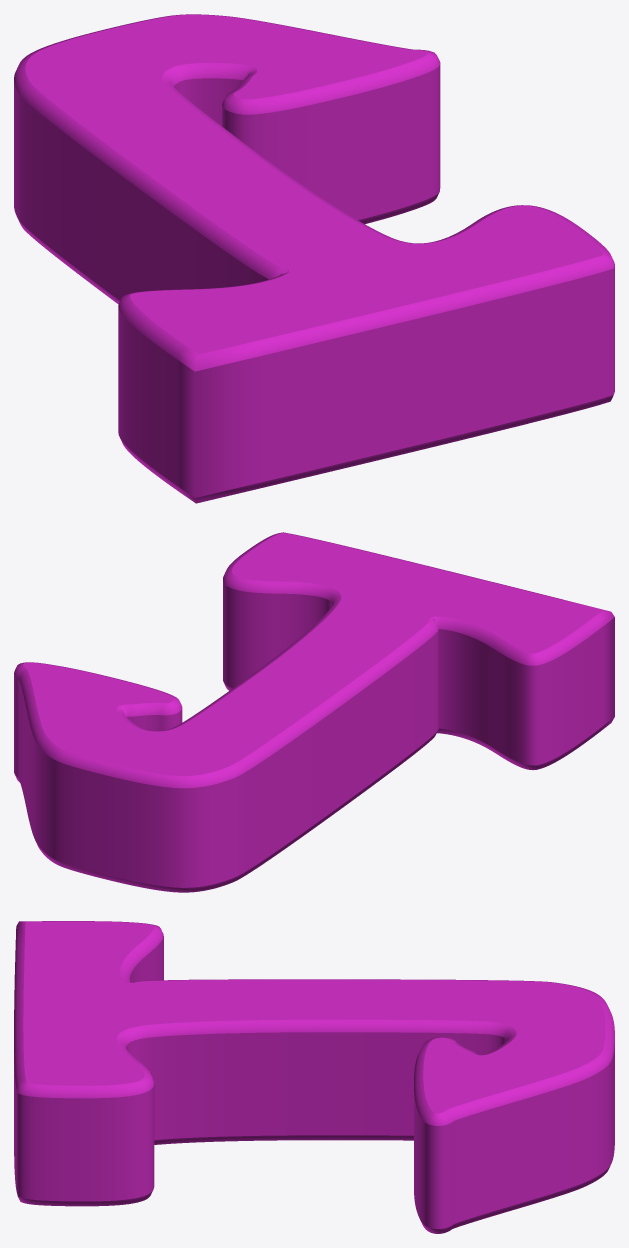
File: Bubble_LetterJ.fbx
3 views of the same model, one above another, from view 1: azimuth 30°, elevation 25°; view 2: azimuth 150°, elevation 25°; view 3: azimuth 270°, elevation 25° (orthographic). The views are drawn at different scales.
Visible parts, largest first — view 1: BubbleLetter_J; view 2: BubbleLetter_J; view 3: BubbleLetter_J.
Boxes of the visible parts, bbox=[...] form: BubbleLetter_J: bbox=[14, 14, 614, 503]; BubbleLetter_J: bbox=[14, 532, 614, 892]; BubbleLetter_J: bbox=[14, 921, 614, 1233].
Bounding box in the file's own units: 0.4996 × 0.14 × 0.6341.
